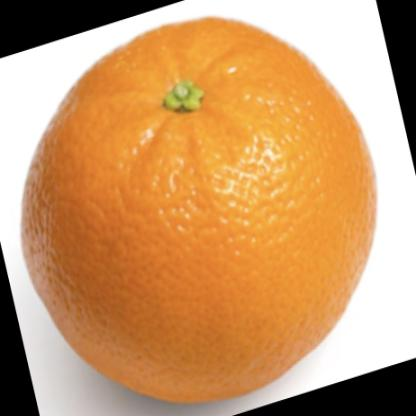fresh: (23, 17, 376, 403)
